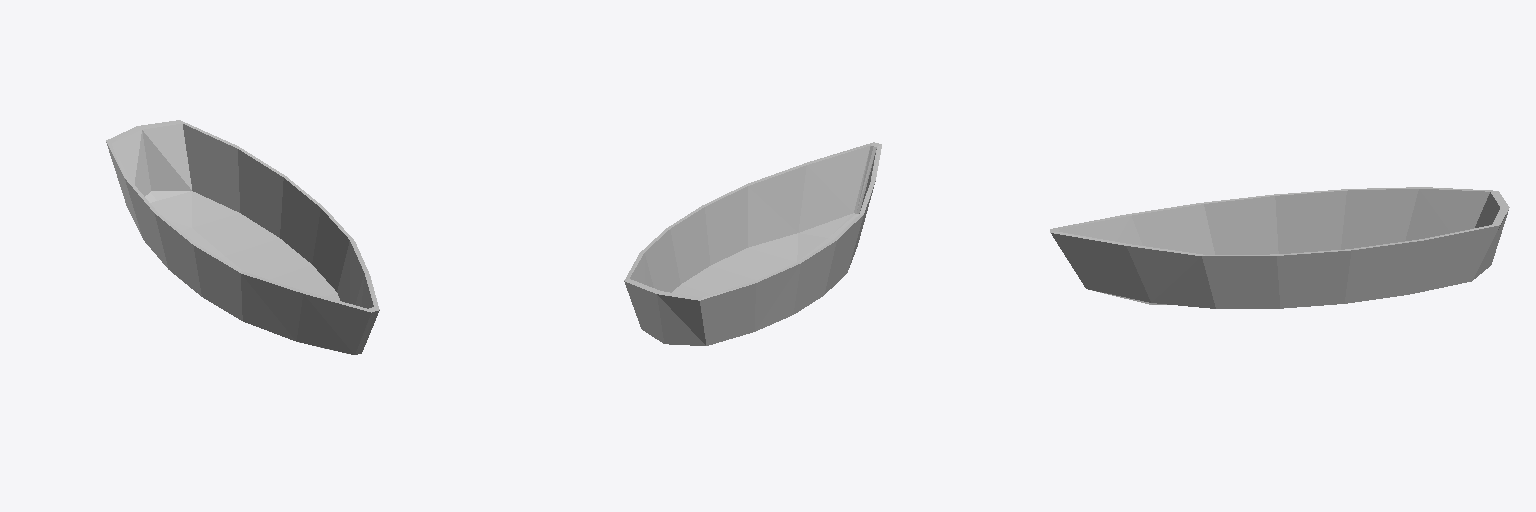
The model's file is bottt.obj.
The picture shows the model from 3 angles: view 1: azimuth 30°, elevation 25°; view 2: azimuth 150°, elevation 25°; view 3: azimuth 270°, elevation 25°; orthographic projection.
Parts seen in each view (by area): view 1: Cube; view 2: Cube; view 3: Cube.
Boxes of the visible parts, x1,y1,x2,y2 form: Cube: [106, 120, 379, 354]; Cube: [624, 142, 881, 345]; Cube: [1050, 187, 1509, 308].
Bounding box in the file's own units: 4.96 × 3.32 × 14.66.